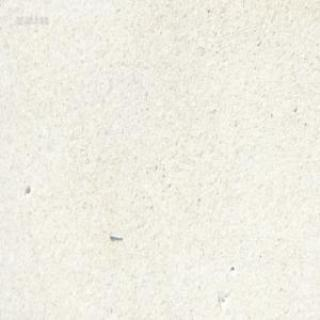Nailtrack_idkeyframe: (106, 229, 122, 240)
